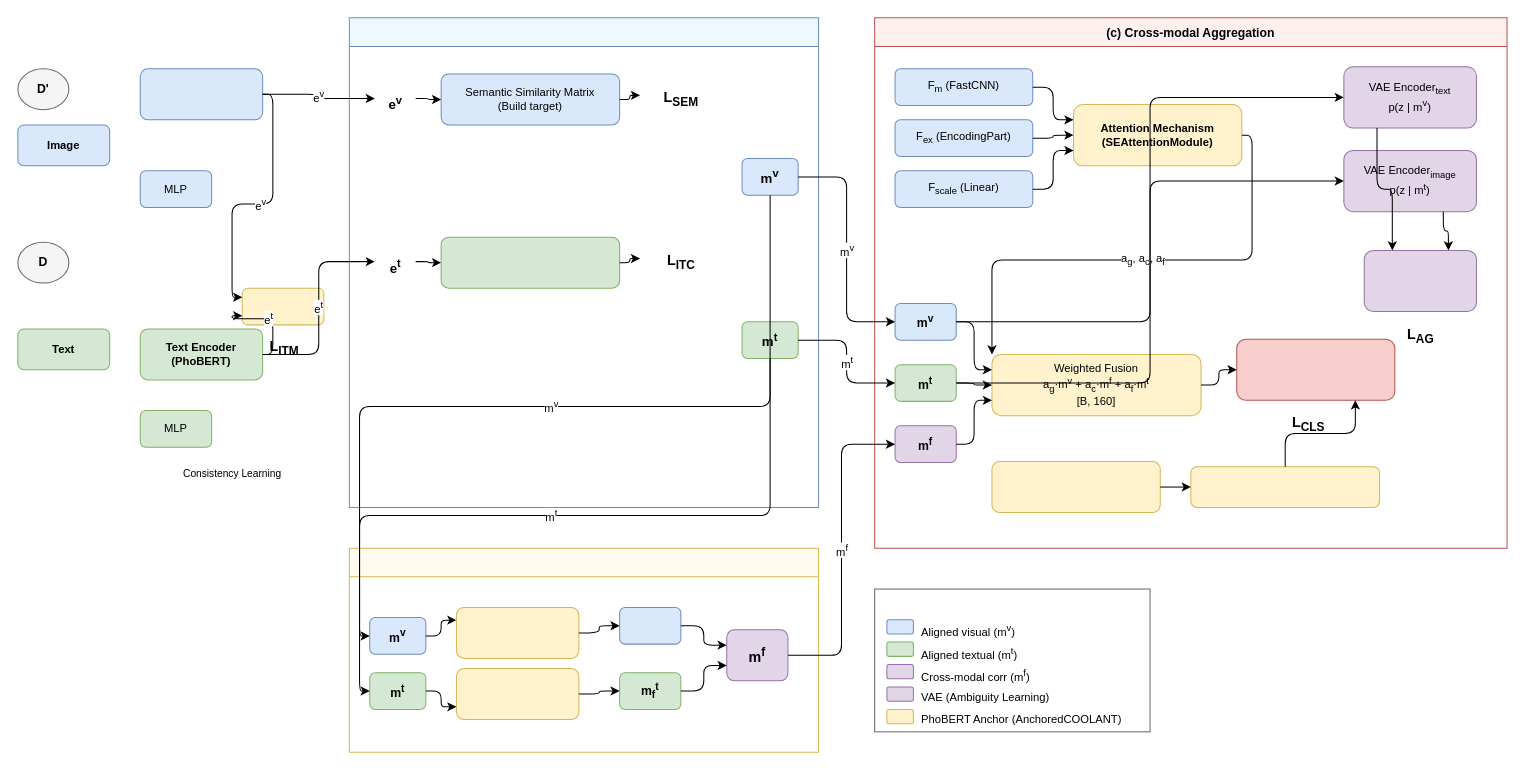
This 1525x770 diagram has some shape labels left out. The shapes that lost their labels are listed below. From the top down, each one's box as (x1, y1, x2, y2) in pixels, then its label:
(139, 68, 263, 120): Visual Encoder (ResNet50)
(440, 236, 620, 288): Predicted Similarity Matrix (Contrastive Learning)
(348, 17, 819, 507): (a) Cross-modal Contrastive Learning
(1363, 249, 1476, 312): SKL Symmetric KL div skl ∈ ℝ B
(241, 287, 324, 325): Classifier
(1236, 338, 1395, 400): Classifier GatedMLP → [B, 2]
(991, 461, 1160, 513): PhoBERT CLS [B, 768] (Stage 3.9 Anchor)
(1190, 466, 1380, 507): anchor_proj Linear(768→64) + BN + ReLU
(455, 606, 579, 658): f t→v CrossModule
(619, 606, 681, 644): m f v
(348, 547, 819, 752): (b) Cross-modal Fusion
(874, 588, 1150, 732): Legend
(455, 668, 579, 720): f v→t CrossModule
